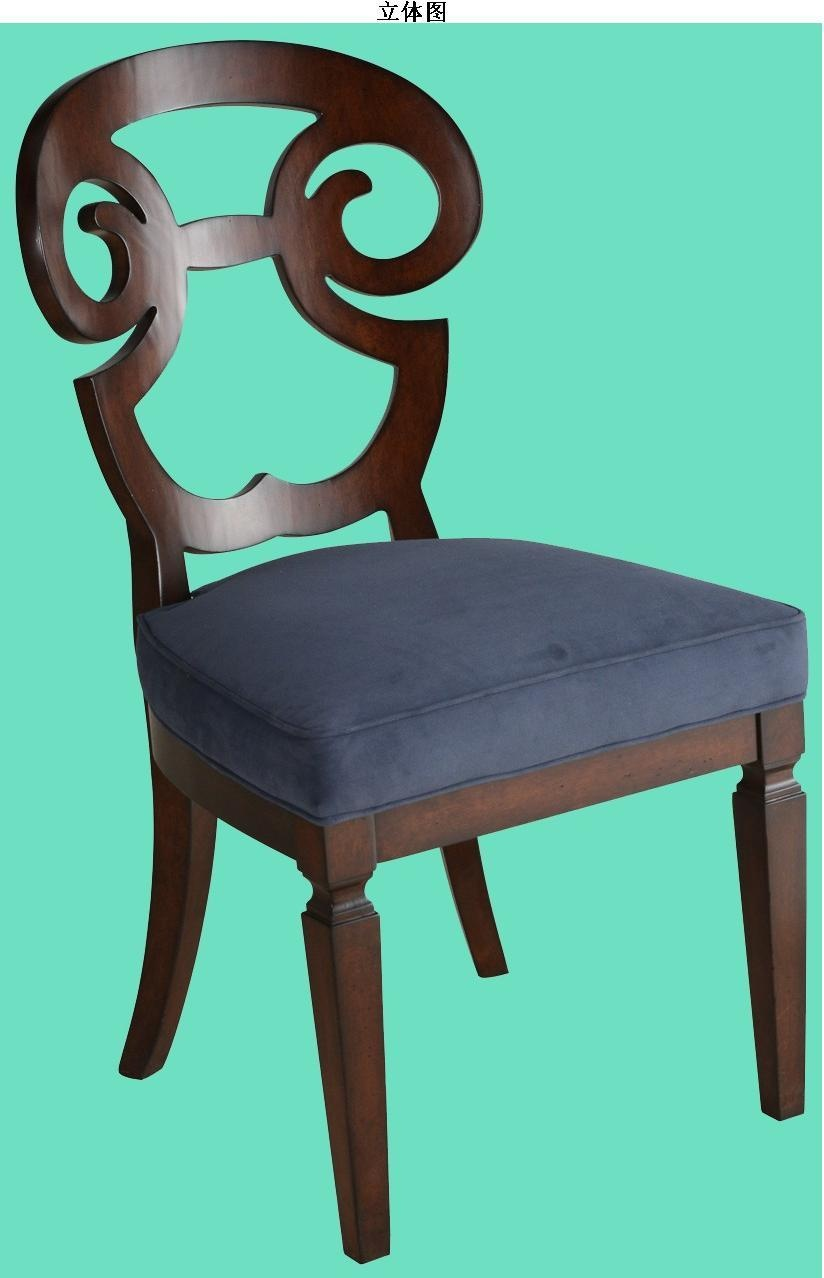obstacle: (3, 24, 819, 1277)
